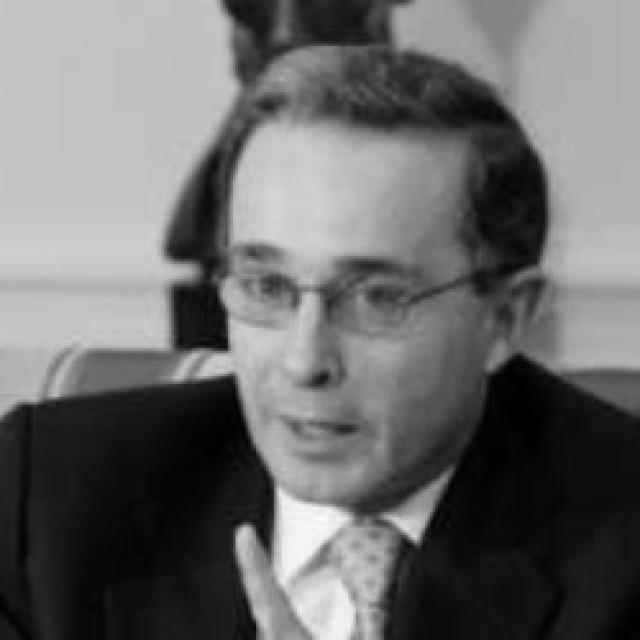real: (209, 48, 566, 496), (224, 247, 414, 329)
